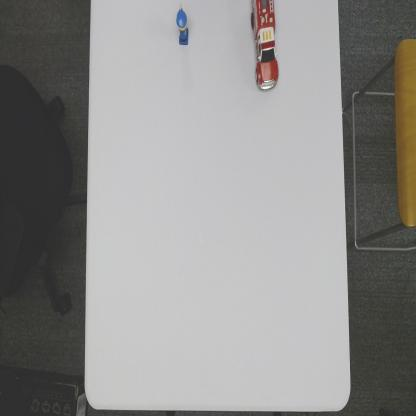Firetruck: (249, 0, 281, 92)
